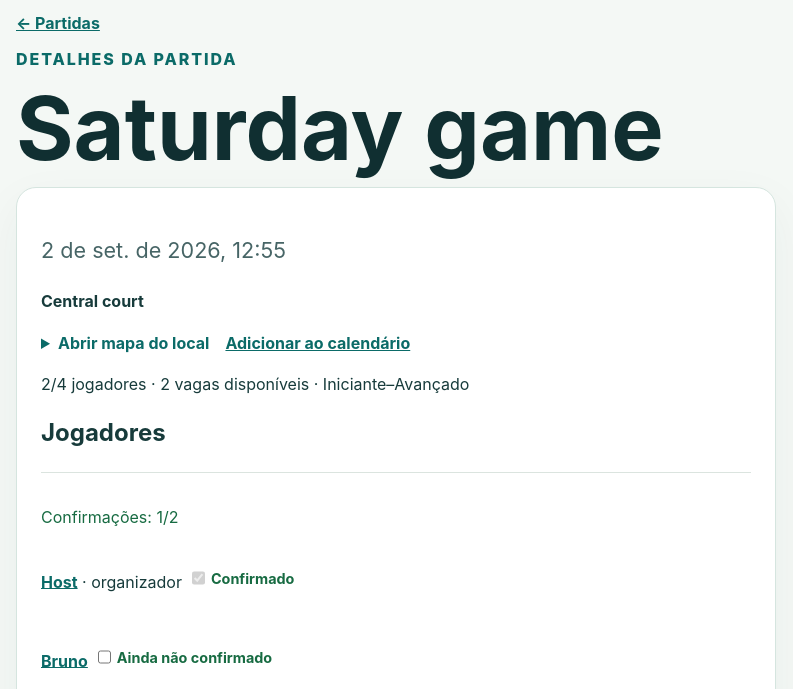
GameDetailsPage › shows confirmation state to the roster and only allows the current player to toggle
The width and height of the screenshot is (793, 689).
Expected: the checkbox named "Confirmar presença de Host" is disabled, [192,569,205,587]
Expected: the text "Confirmações: 1/2" is shown, [41,507,178,527]
Click the checkbox named "Confirmar presença de Bruno": (105, 657) [98,648,111,666]
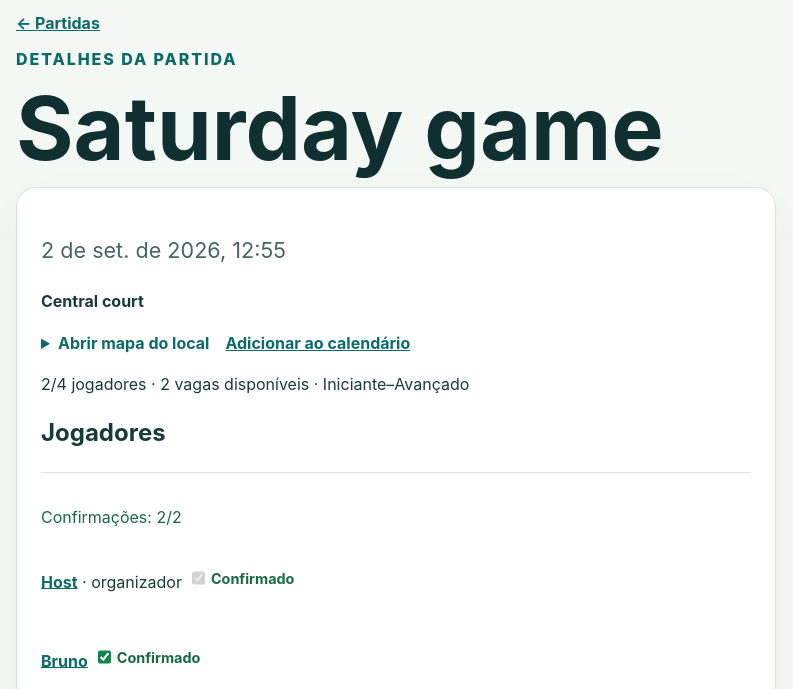
Now the checkbox named "Confirmar presença de Bruno" is checked, box [98,648,111,666]
Now the text "Confirmações: 2/2" is shown, box [41,507,182,527]
